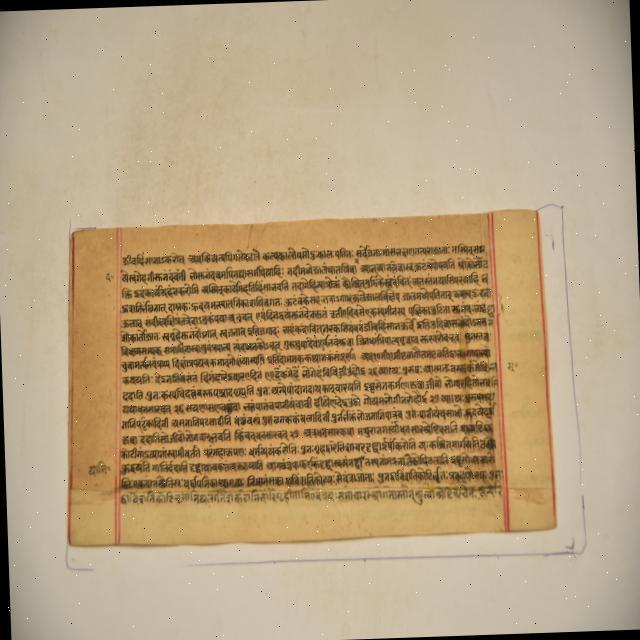text_paragraph: (63, 205, 559, 545)
